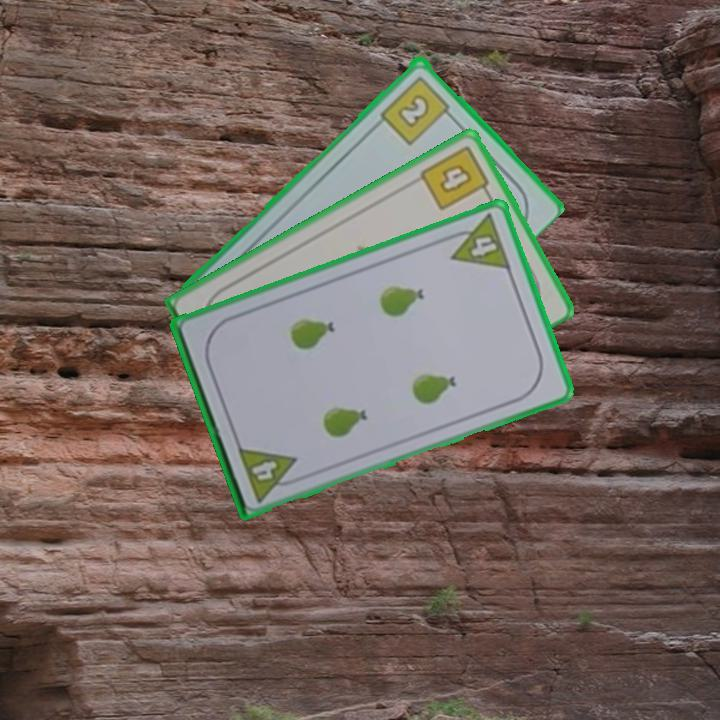2b: (376, 72, 457, 148)
4b: (416, 141, 495, 213)
4p: (441, 210, 514, 273), (234, 442, 305, 505)
